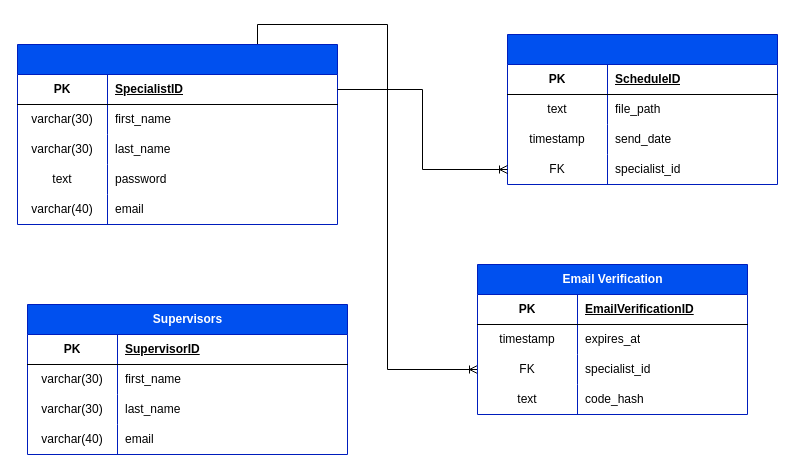
Image size: 795x472. Some labels were removed from this diagram. Each missing label, with the box of its shape:
Schedules: (506, 34, 778, 184)
Specialists: (16, 44, 338, 224)
